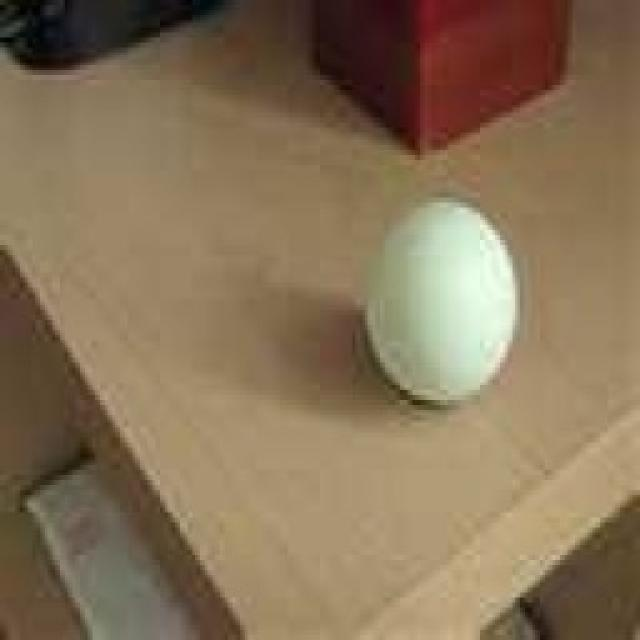white: (359, 198, 526, 406)
